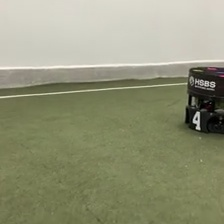robot: (184, 65, 224, 134)
